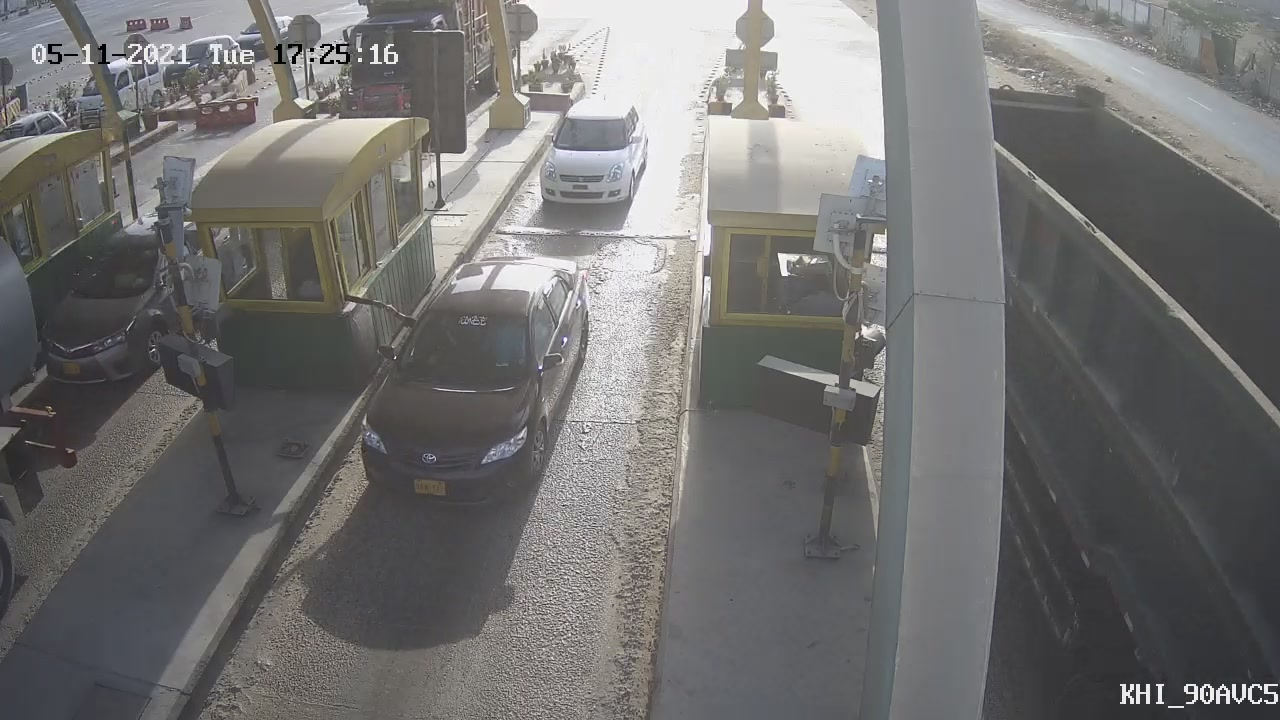F1: (339, 239, 613, 521), (524, 87, 664, 231)
